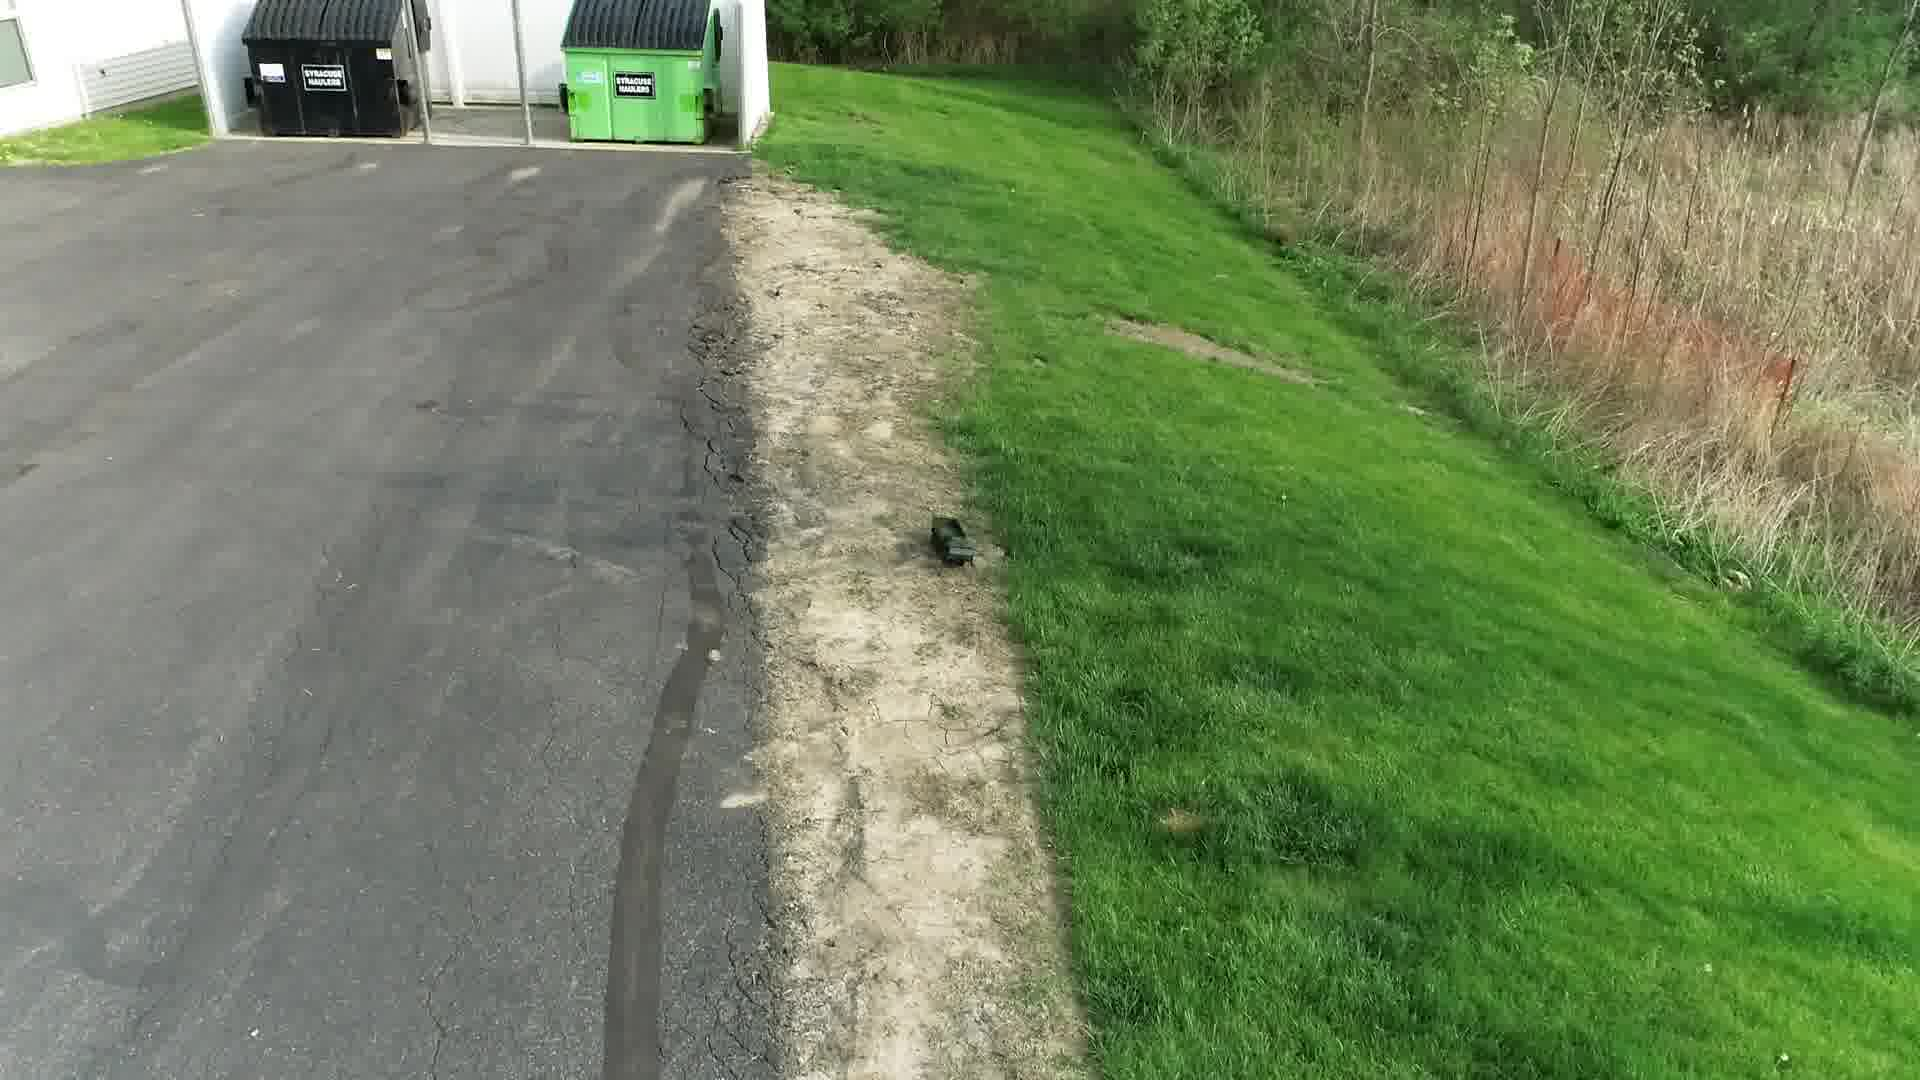transporter9: (928, 512, 978, 568)
